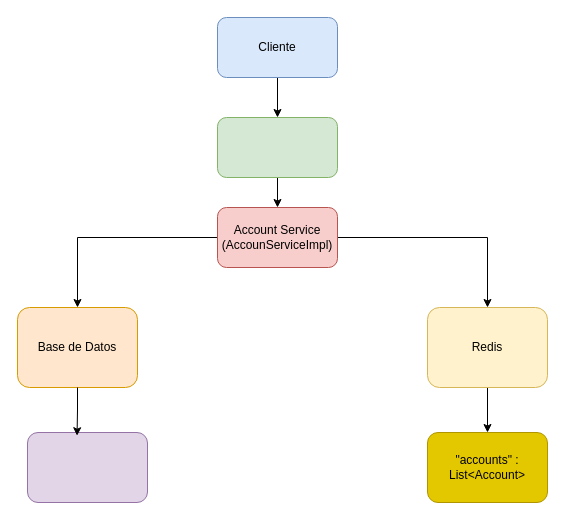
Image size: 565x520. Some labels were removed from this diagram. Each missing label, with the box of its shape:
Account Controller: (216, 116, 338, 178)
AccountRepository: (26, 432, 148, 502)
